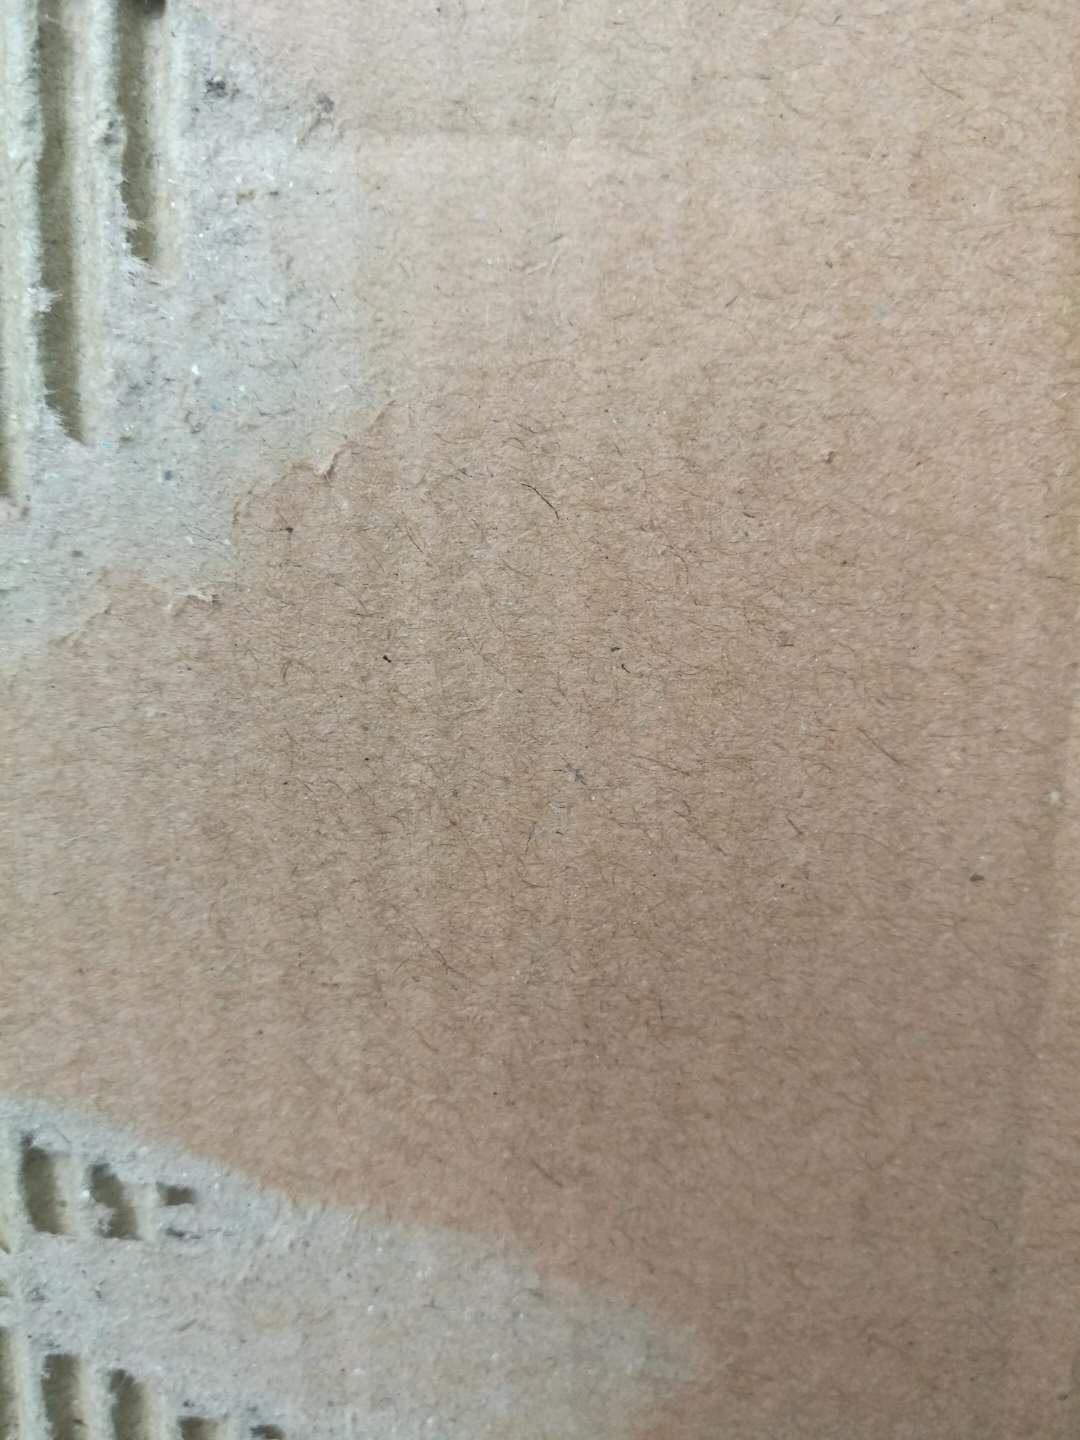defect: (5, 1, 440, 719), (2, 1059, 773, 1440)
